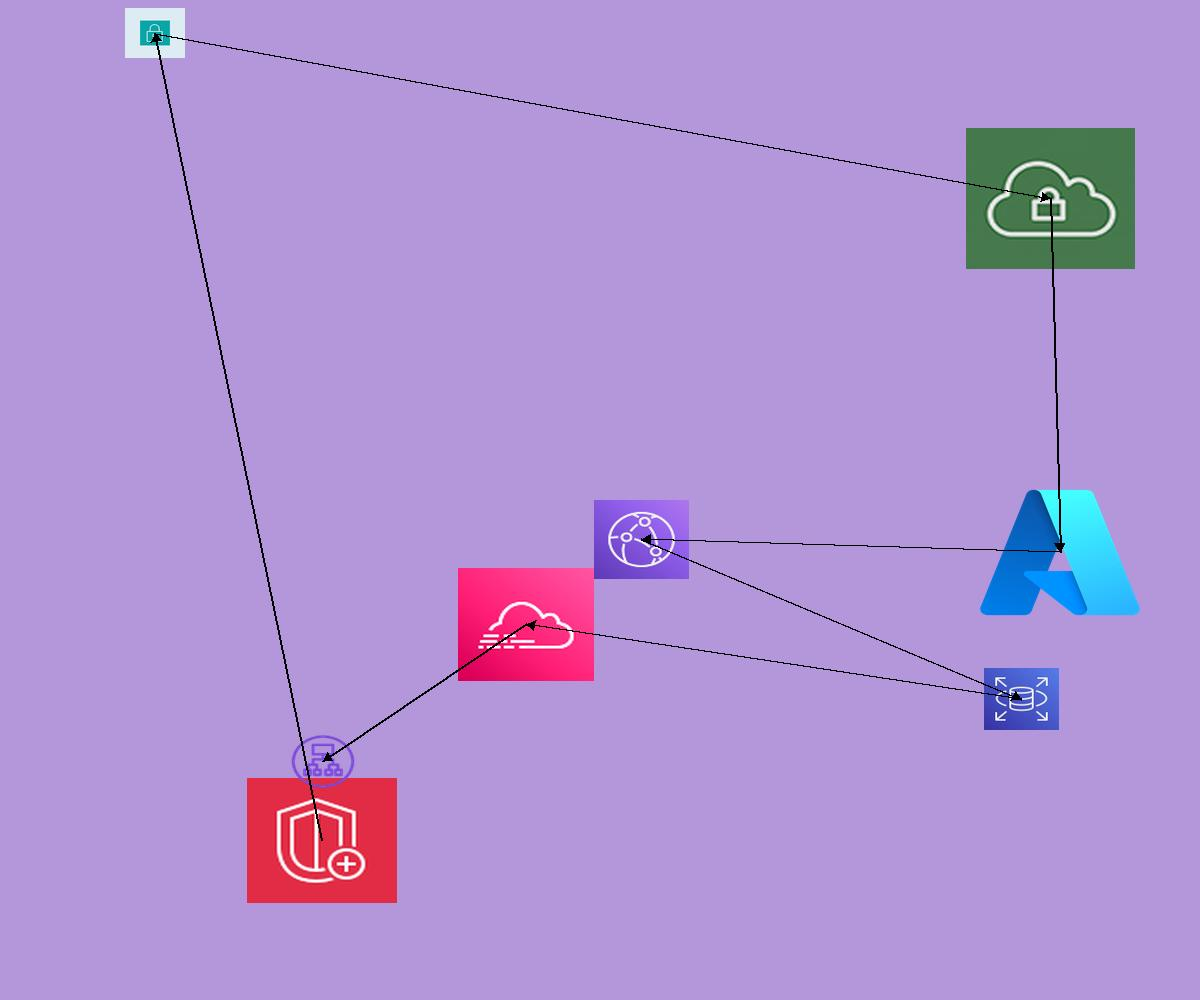AWS-CloudFront: (594, 500, 689, 579)
AWS-CloudTrail: (458, 568, 594, 681)
AWS-Private-subnet: (125, 8, 185, 58)
AWS-Private_vpc: (966, 128, 1135, 269)
AWS-RDS: (984, 668, 1059, 730)
AWS-Res_Elastic-Load-Balancing_Application-Load-Balancer: (289, 733, 357, 790)
AWS-Shield: (247, 778, 397, 903)
Azure_services: (973, 480, 1147, 625)
